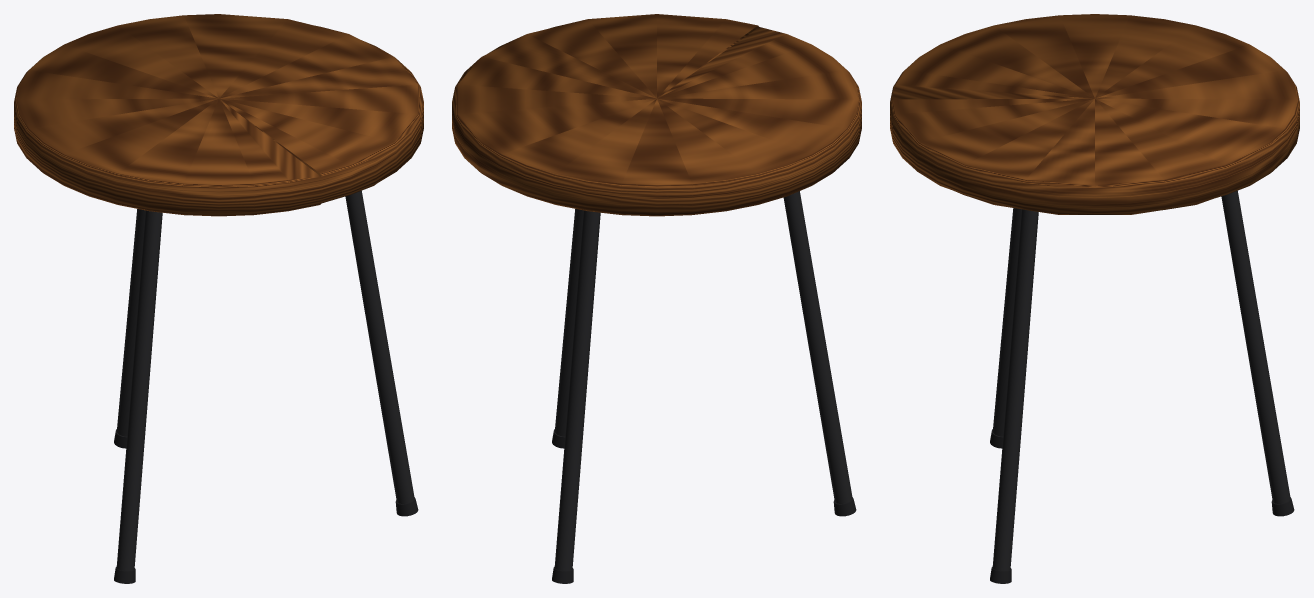
The model's file is living_side_table.glb.
3 renders of one model, left to right at view 1: azimuth 30°, elevation 25°; view 2: azimuth 150°, elevation 25°; view 3: azimuth 270°, elevation 25°, orthographic.
Visible parts, largest first — view 1: Mese_Tabla, Metal_Boru_On_Sol, Metal_Boru_On_Sag, Metal_Boru_Arka; view 2: Mese_Tabla, Metal_Boru_Arka, Metal_Boru_On_Sol, Metal_Boru_On_Sag; view 3: Mese_Tabla, Metal_Boru_On_Sag, Metal_Boru_Arka, Metal_Boru_On_Sol.
Part boxes in pixels (left/top/right/bottom): Mese_Tabla: left=14, top=14, right=423, bottom=216; Metal_Boru_On_Sol: left=116, top=210, right=162, bottom=571; Metal_Boru_On_Sag: left=345, top=191, right=414, bottom=503; Metal_Boru_Arka: left=116, top=209, right=145, bottom=436; Mese_Tabla: left=452, top=14, right=861, bottom=216; Metal_Boru_Arka: left=554, top=210, right=600, bottom=571; Metal_Boru_On_Sol: left=783, top=191, right=852, bottom=503; Metal_Boru_On_Sag: left=554, top=209, right=583, bottom=436; Mese_Tabla: left=890, top=14, right=1299, bottom=214; Metal_Boru_On_Sag: left=992, top=209, right=1038, bottom=571; Metal_Boru_Arka: left=1221, top=191, right=1290, bottom=503; Metal_Boru_On_Sol: left=992, top=208, right=1021, bottom=436.
Size of the model in its own units: 0.448 by 0.4998 by 0.448.
Materials: 3 (1 with a texture image).
